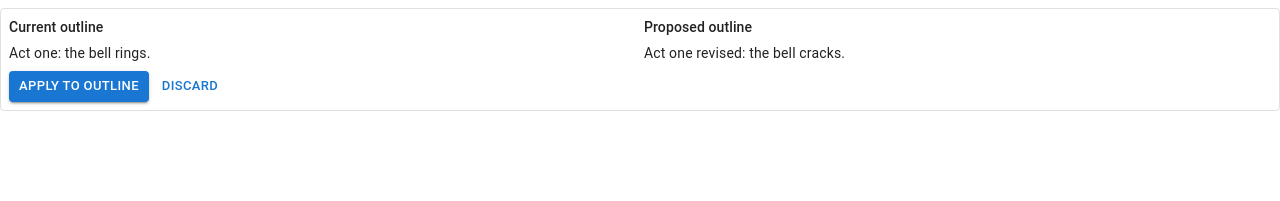
Test case: OutlineRevision › an apply that could not be remembered still shows applied, with a reference
The width and height of the screenshot is (1280, 201).
Click the button "Apply to outline". click: (79, 86)
box: [9,71,149,102]
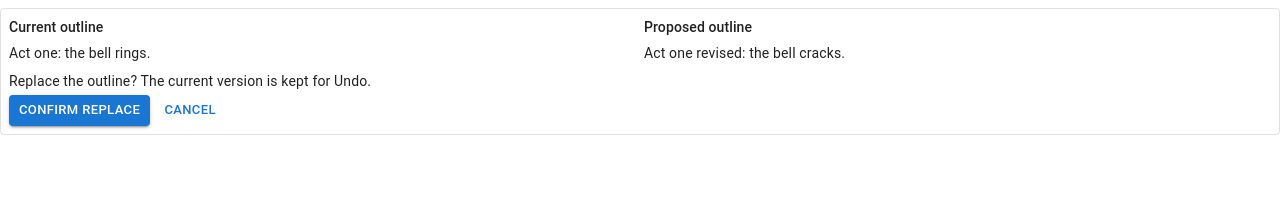
Click the button "Confirm replace". click: (80, 110)
box: [9,95,150,126]
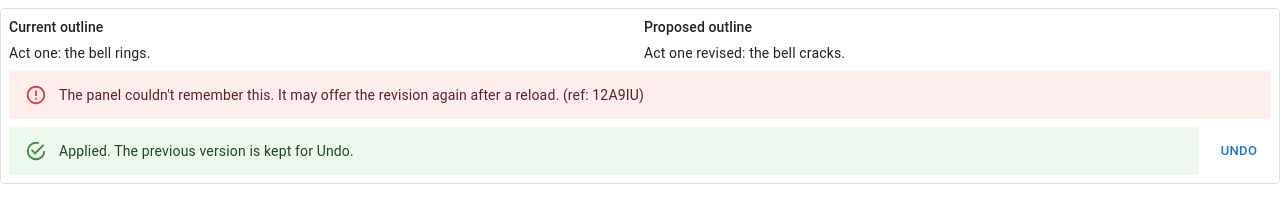
Expected: the text "Applied" is shown, [59,143,354,159]
Expected: the text "couldn't remember" is shown, [59,87,644,103]
